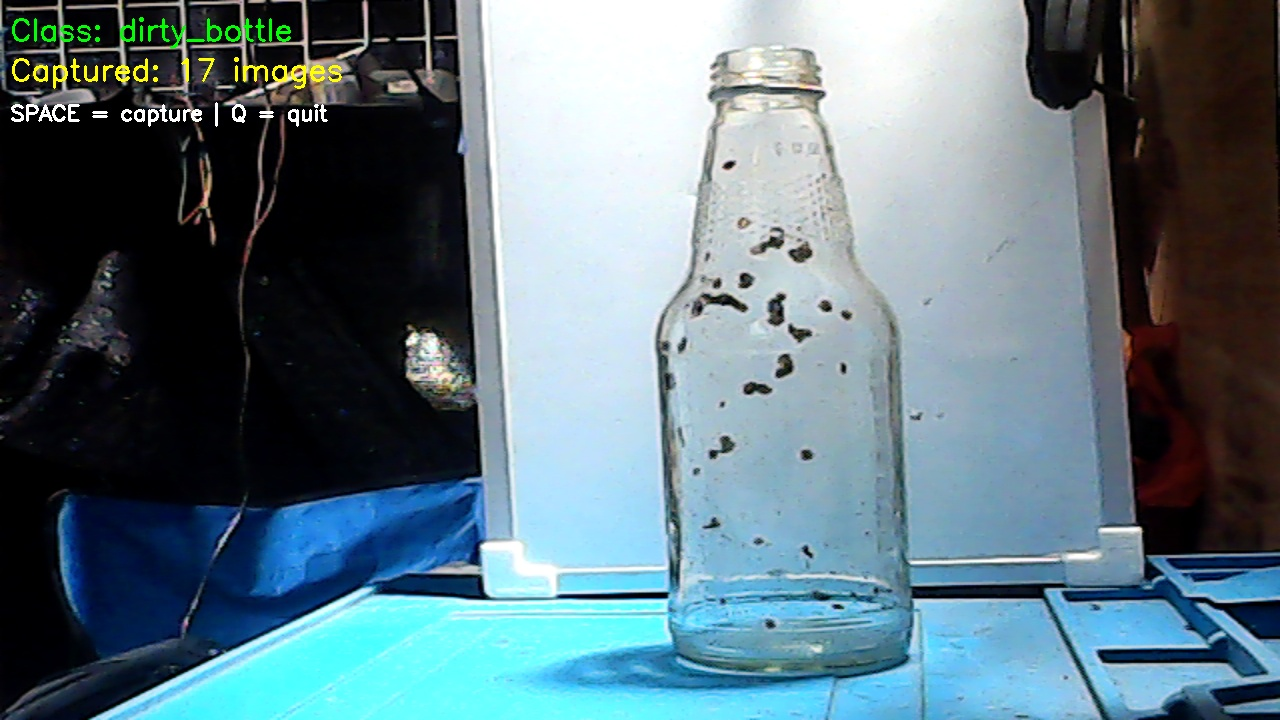dirty_bottle: (662, 46, 910, 675)
